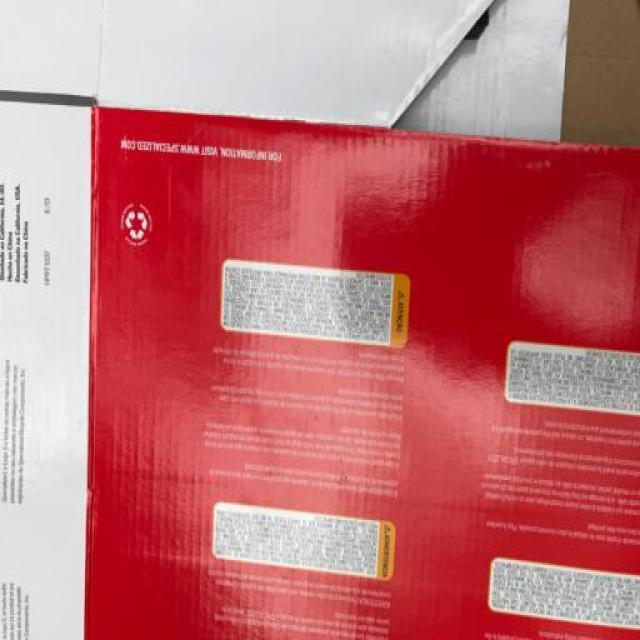Cardboard Paper: (0, 72, 640, 640)
